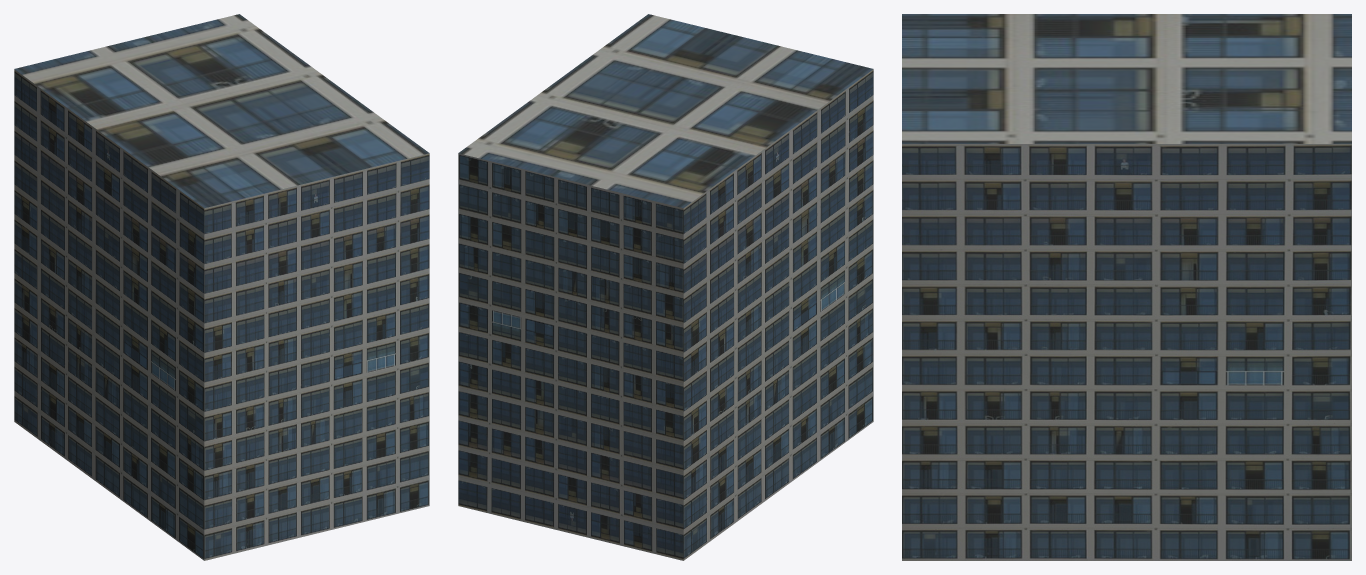
File: building1.fbx
The picture shows the model from 3 angles, left to right: view 1: azimuth 30°, elevation 25°; view 2: azimuth 150°, elevation 25°; view 3: azimuth 270°, elevation 25°; orthographic projection. The views are drawn at different scales.
Visible parts, largest first — view 1: pCube29; view 2: pCube29; view 3: pCube29.
Part boxes in pixels (x1,y1,x2,y2): pCube29: (14, 14, 429, 560); pCube29: (458, 14, 873, 560); pCube29: (902, 14, 1351, 560).
Bounding box in the file's own units: 37.7 × 56.38 × 55.12.
